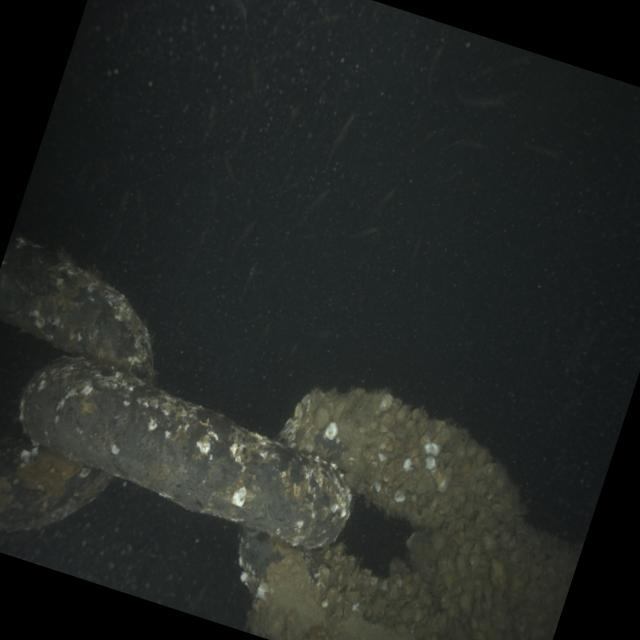ChainLink: (20, 358, 351, 548), (278, 388, 525, 532), (240, 528, 474, 640), (0, 235, 154, 382), (411, 516, 582, 640), (0, 435, 111, 530)
